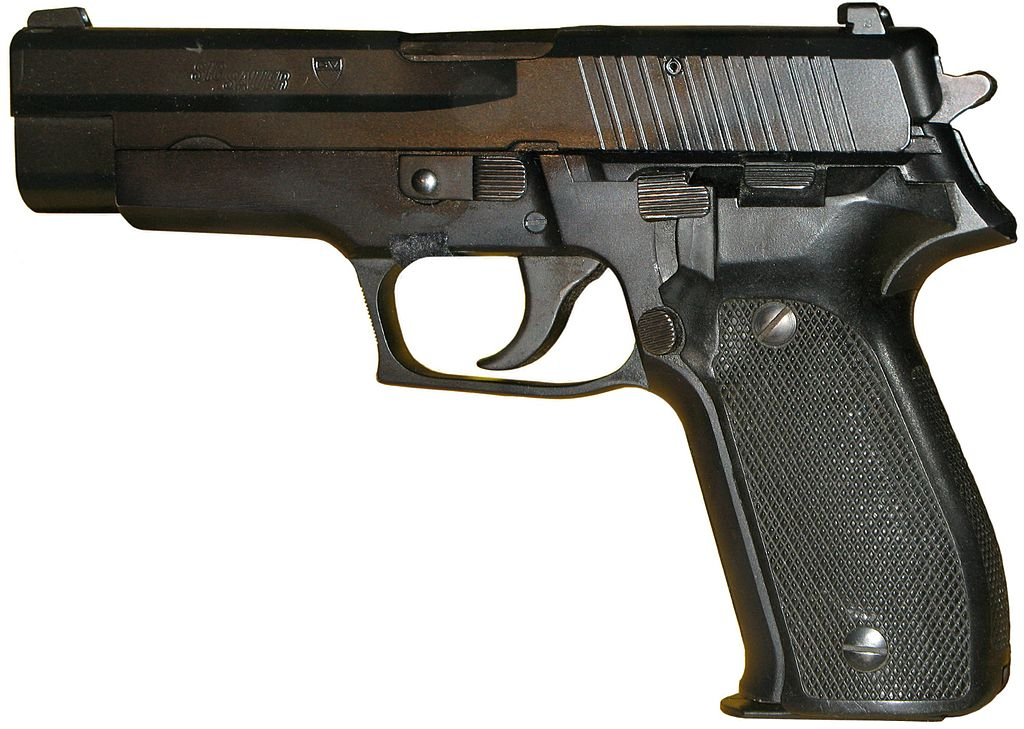Arma Real: (10, 5, 1015, 716)
